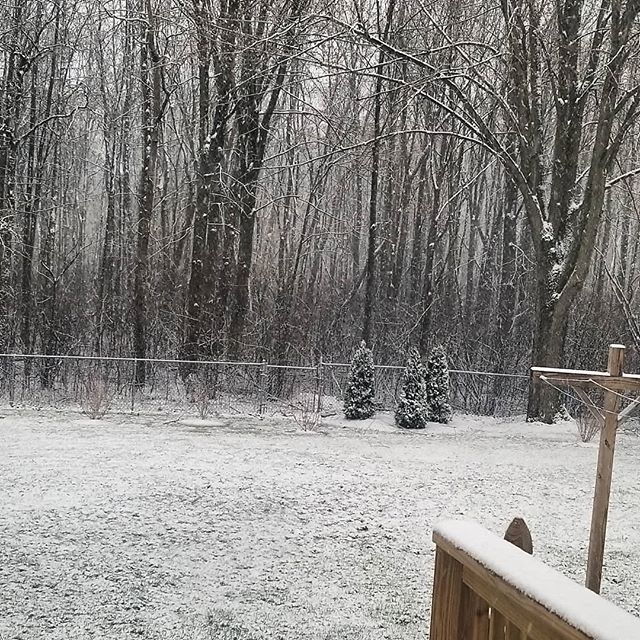tree: (340, 336, 390, 427), (390, 346, 434, 432), (418, 342, 462, 428)
vegetation: (1, 1, 618, 363)
